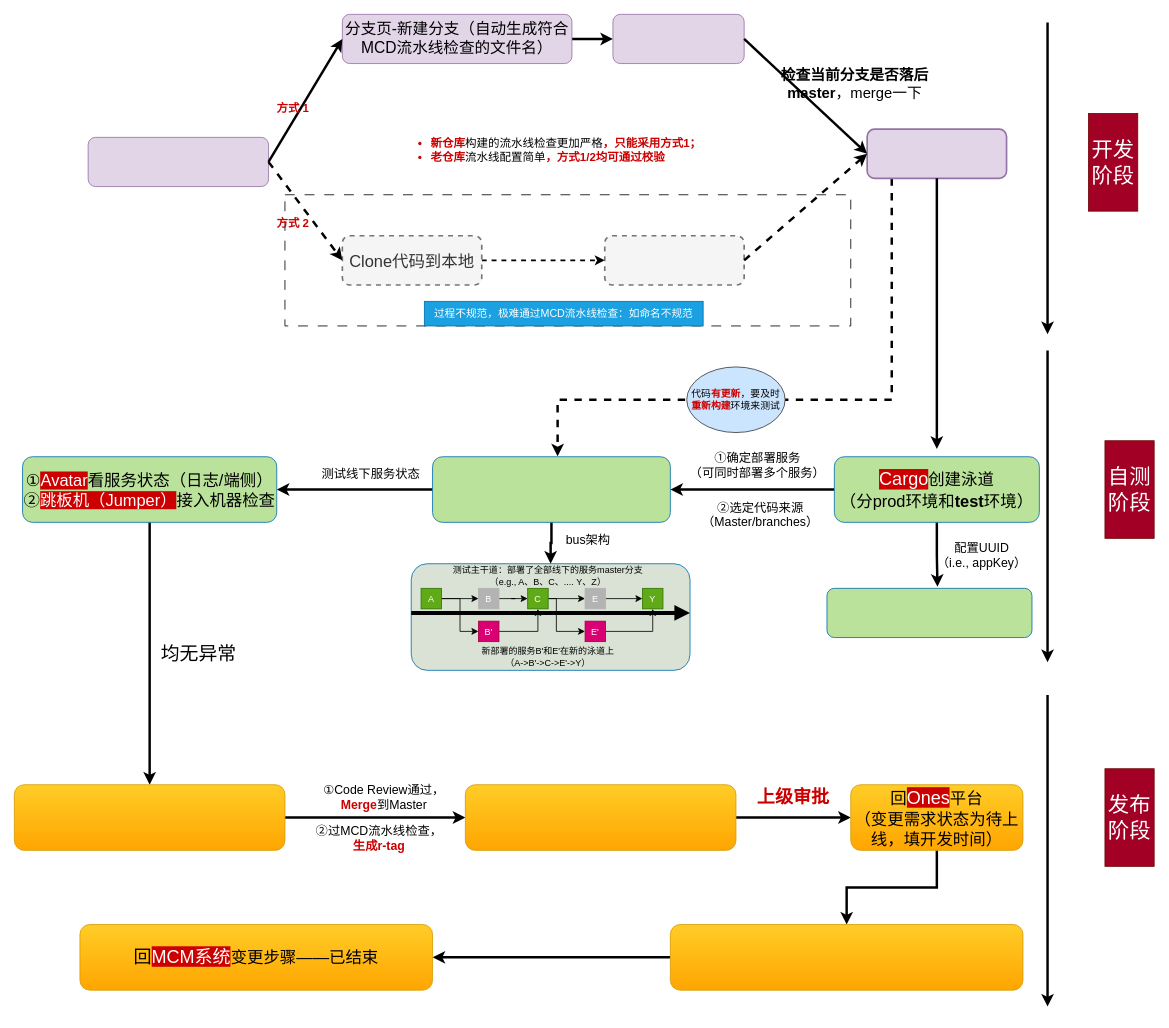
Image size: 1169x1028. Some labels were removed from this diagram. Each missing label, with the centre of its shape:
Avatar 平台 prod 环境先构建，再 灰度发布 （构建灰度任务，进行 分组 发布）: [846,957]
MCM 系统填写需求 （需求分析，变更项， 关联rTag，测试截图等）: [600,817]
Ones 提需求 （可连接相关wiki）: [178,162]
Push新分支 到远程仓库: [936,153]
创建新分支， 本地 进行功能开发: [674,260]
提交Pull Request， 准备Code Review: [149,817]
本地Fetch该分支进行功能开发: [678,39]
构建 测试环境 （ 基本信息、构建配置、包配置 ）: [551,489]
自动关联到 Avatar 平台: [929,613]
